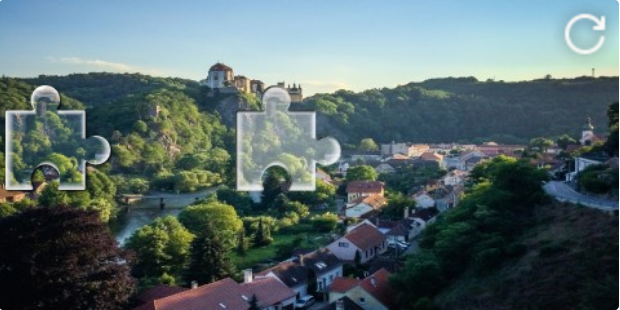target: (237, 86, 340, 192)
